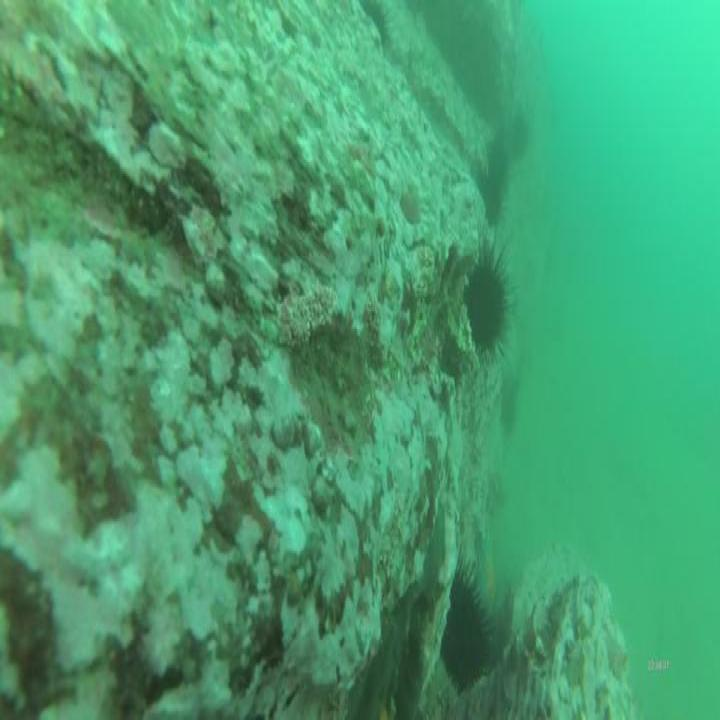echinus: (439, 556, 496, 694), (465, 235, 512, 361), (471, 162, 505, 228), (357, 0, 390, 62), (489, 128, 513, 210), (505, 107, 529, 169)
